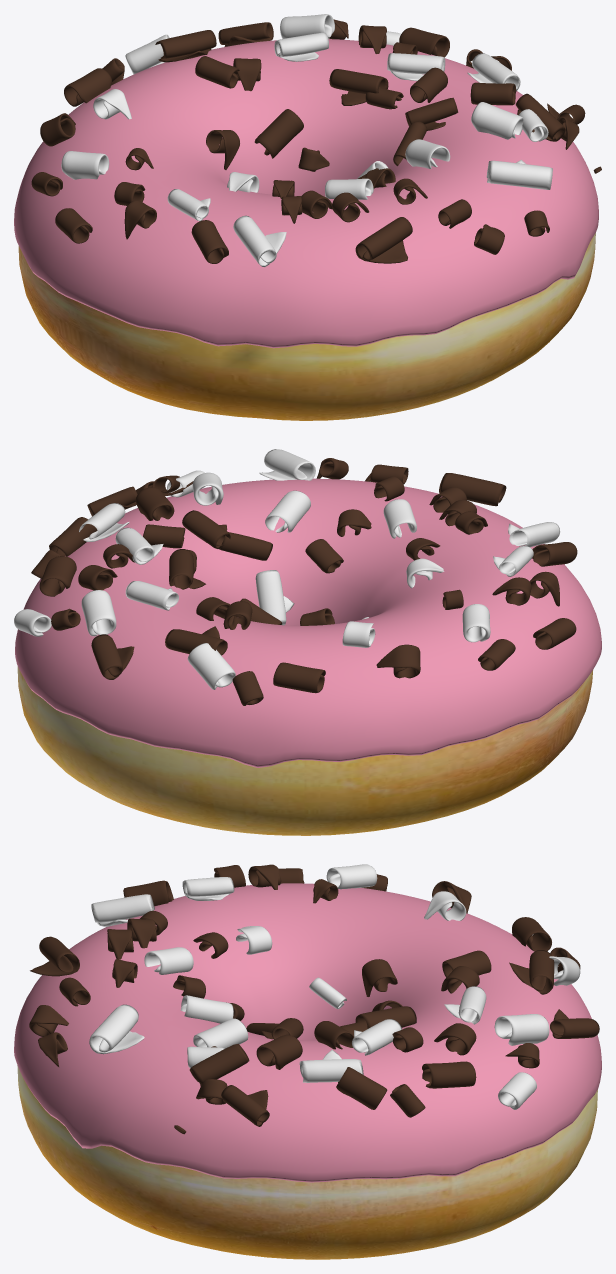
Rendered from strawberry two in one curls.glb.
3 views of the same model, one above another, from view 1: azimuth 30°, elevation 25°; view 2: azimuth 150°, elevation 25°; view 3: azimuth 270°, elevation 25° (orthographic). The views are drawn at different scales.
Visible parts, largest first — view 1: chocolate.002, two in one, Torus; view 2: chocolate.002, two in one, Torus; view 3: chocolate.002, two in one, Torus.
Part boxes in pixels (x1,y1,x2,y2): chocolate.002: (14,39,598,348); two in one: (31,14,601,267); Torus: (18,233,595,420); chocolate.002: (15,478,601,767); two in one: (14,449,577,705); Torus: (17,666,592,835); chocolate.002: (14,883,601,1182); two in one: (29,864,599,1134); Torus: (17,1065,597,1259).
Size of the model in its own units: 0.1988 by 0.0804 by 0.1971.
4 materials, 1 textured.
